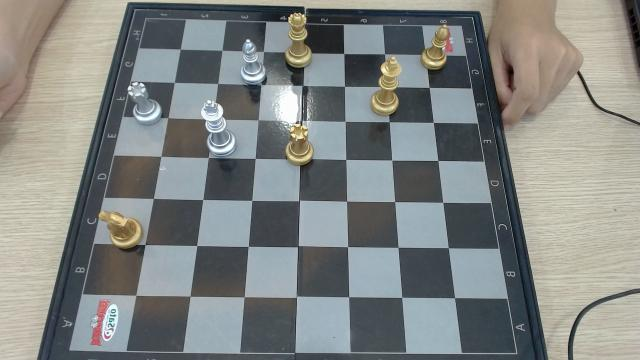black_bishop: (422, 24, 451, 70)
black_king: (371, 56, 402, 116)
black_knight: (98, 211, 143, 250)
black_queen: (285, 11, 313, 67)
black_rook: (285, 122, 314, 166)
white_bishop: (240, 40, 267, 85)
white_king: (201, 100, 236, 157)
white_rook: (127, 81, 163, 126)
